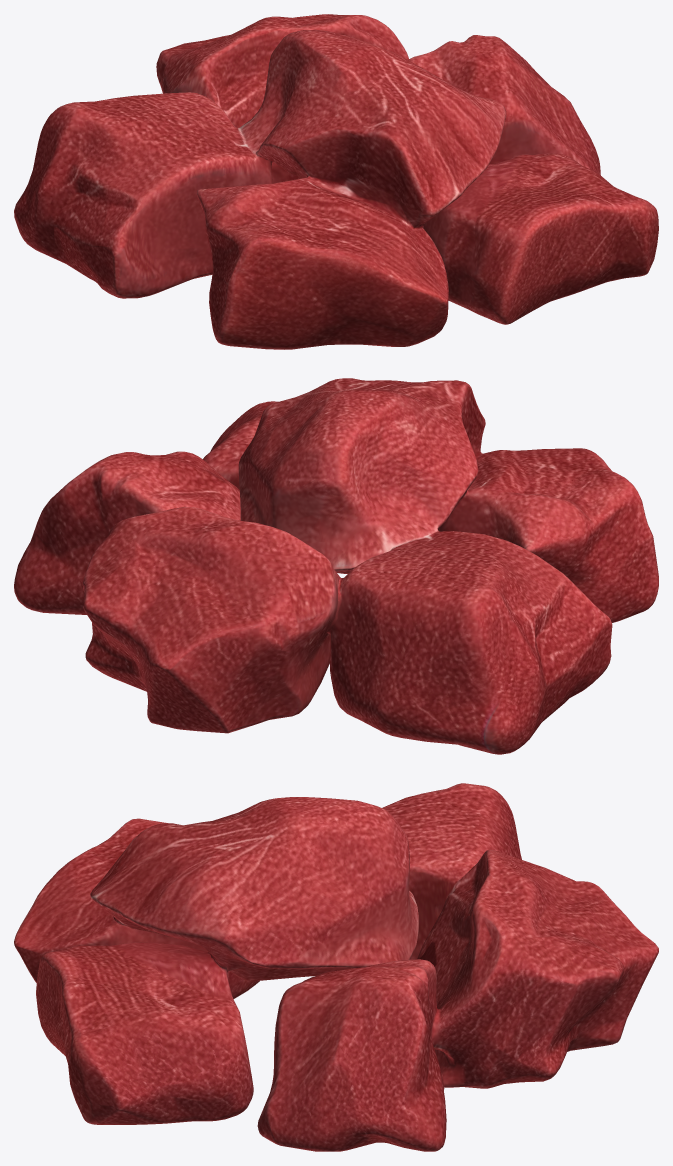
File: Meshy_AI_Carne_de_res_cruda_20261118_texture.fbx
3 views of the same model, one above another, from view 1: azimuth 30°, elevation 25°; view 2: azimuth 150°, elevation 25°; view 3: azimuth 270°, elevation 25° (orthographic). The views are drawn at different scales.
Parts seen in each view (by area): view 1: Mesh_0; view 2: Mesh_0; view 3: Mesh_0.
Boxes of the visible parts, x1,y1,x2,y2 form: Mesh_0: [14, 14, 658, 349]; Mesh_0: [14, 378, 658, 754]; Mesh_0: [14, 783, 658, 1151].
Bounding box in the file's own units: 181 × 71.8 × 190.
1 material, 1 textured.
